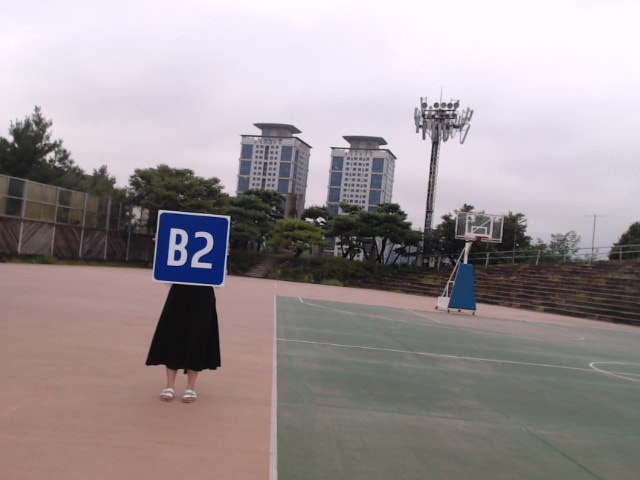delivery_b2: (152, 211, 229, 287)
